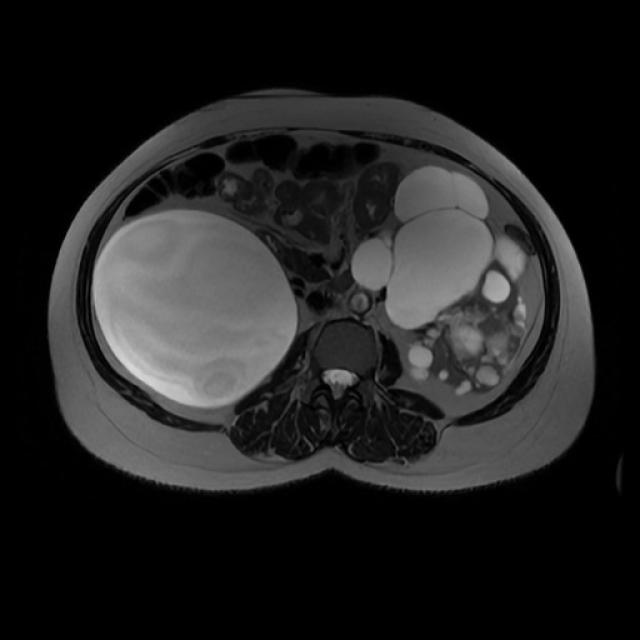sag: (95, 208, 299, 407)
sol: (354, 167, 527, 394)
